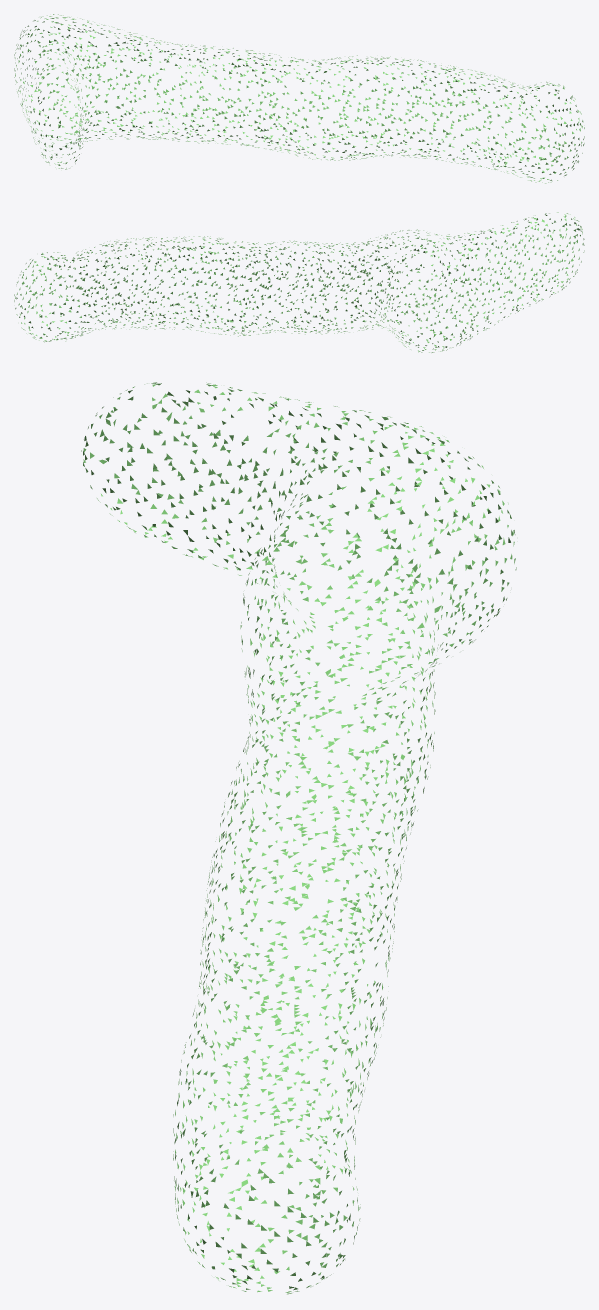
Rendered from morph_016.glb.
3 views of the same model, one above another, from view 1: azimuth 30°, elevation 25°; view 2: azimuth 150°, elevation 25°; view 3: azimuth 270°, elevation 25° (orthographic). The views are drawn at different scales.
Bounding box in the file's own units: 133 × 55.76 × 48.8.
